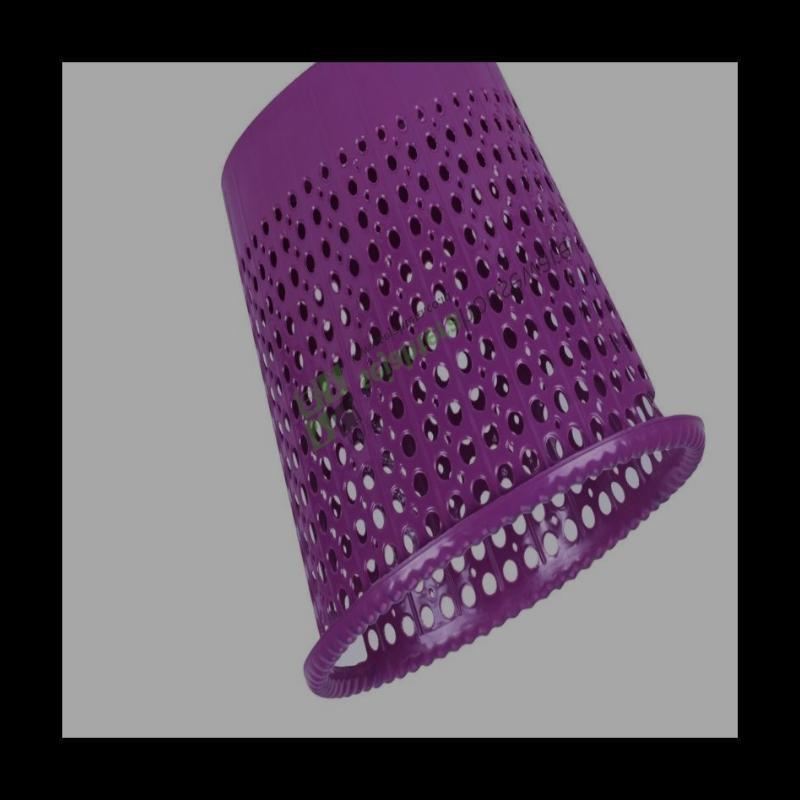Bote de Basura: (219, 74, 698, 695)
